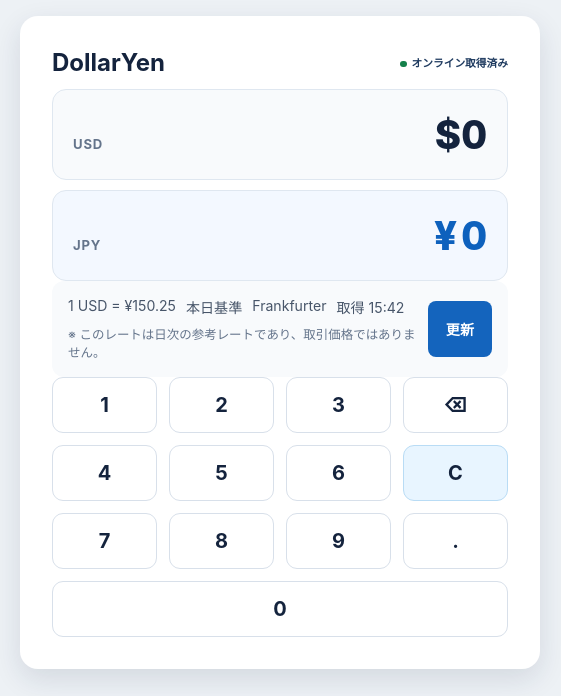
Scenario: updates both currency outputs synchronously for the 123.45 sequence
What coordinates should you click on to do the following:
click the button "1"
I would click on:
 (104, 405)
Its box is [52, 377, 157, 433].
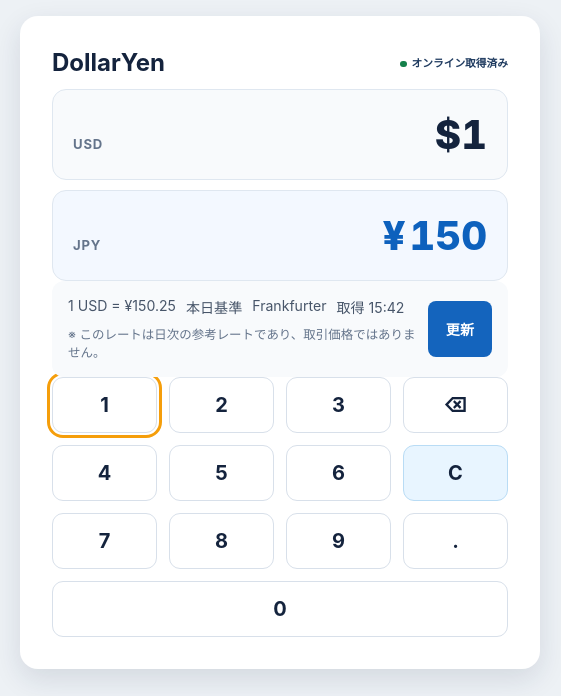
What coordinates should you click on to do the following:
click the button "2"
I would click on:
 (222, 405)
Its box is [169, 377, 274, 433].
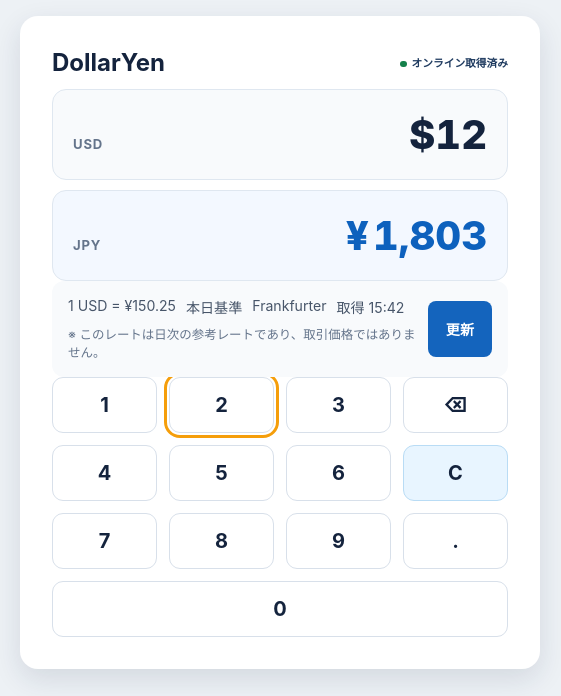
What coordinates should you click on to do the following:
click the button "3"
I would click on:
 (338, 405)
Its box is [286, 377, 391, 433].
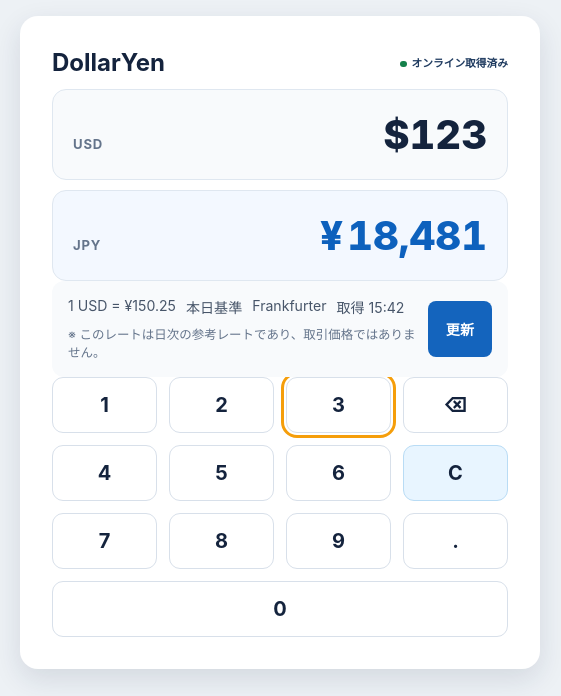
What coordinates should you click on to do the following:
click the button named "小数点"
I would click on:
 (456, 541)
Its box is [403, 513, 508, 569].
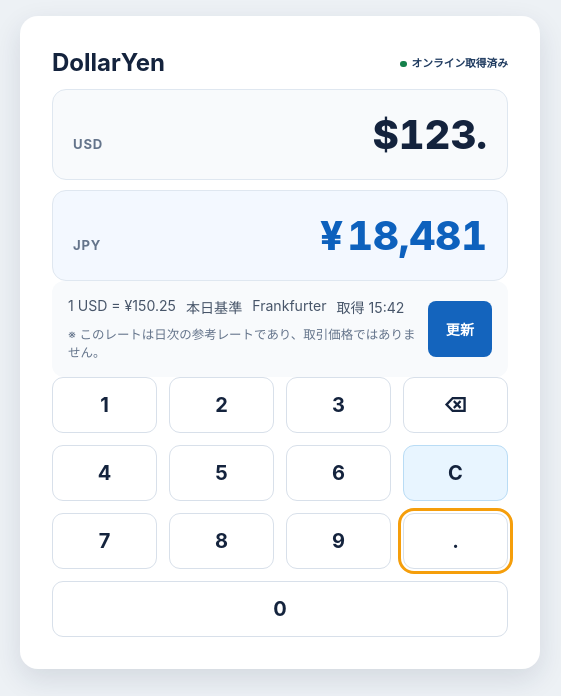
What coordinates should you click on to do the following:
click the button "4"
I would click on:
 (104, 473)
Its box is [52, 445, 157, 501].
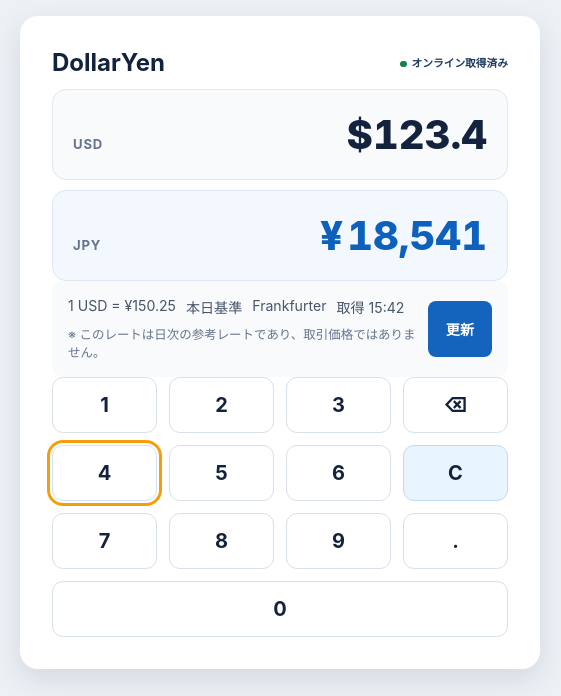
What coordinates should you click on to do the following:
click the button "5"
I would click on:
 (222, 473)
Its box is [169, 445, 274, 501].
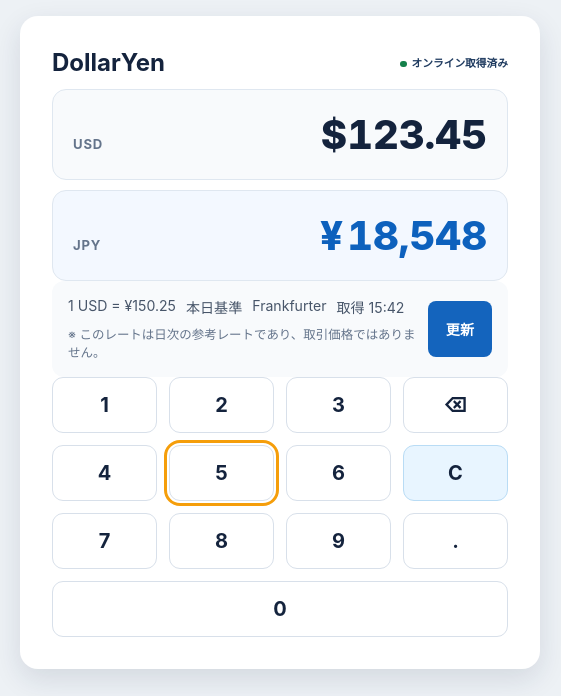
Check: the text named "米ドル金額" reads "$123.45", box [321, 110, 487, 159]
Check: the element named "日本円金額" reads "¥ 18,548", box [320, 211, 487, 260]
